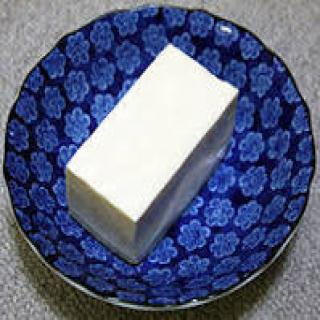Tahu: (49, 38, 266, 266)
